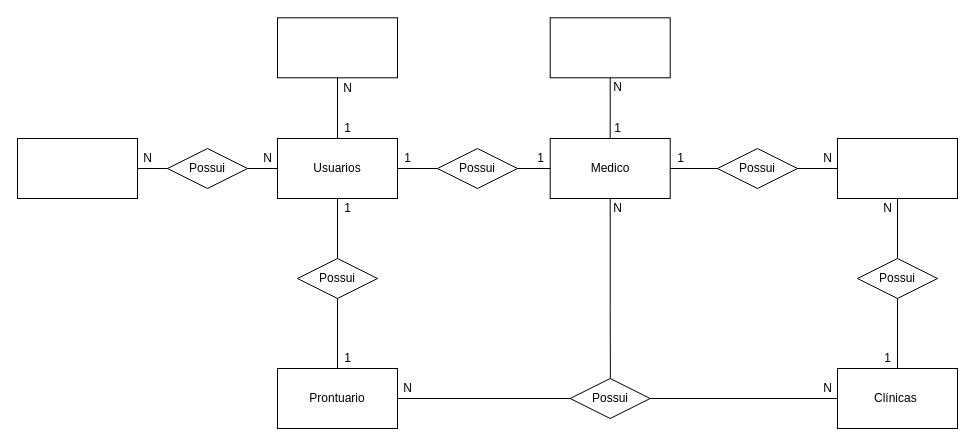
This 975x446 diagram has some shape labels left out. The shapes that lost their labels are listed below. From the top down, each one's centre as x and y in pixels, then its label:
(x=337, y=47): TIpoUsuario
(x=609, y=47): Especialdades
(x=77, y=168): Adminstrador
(x=897, y=168): Consulta
